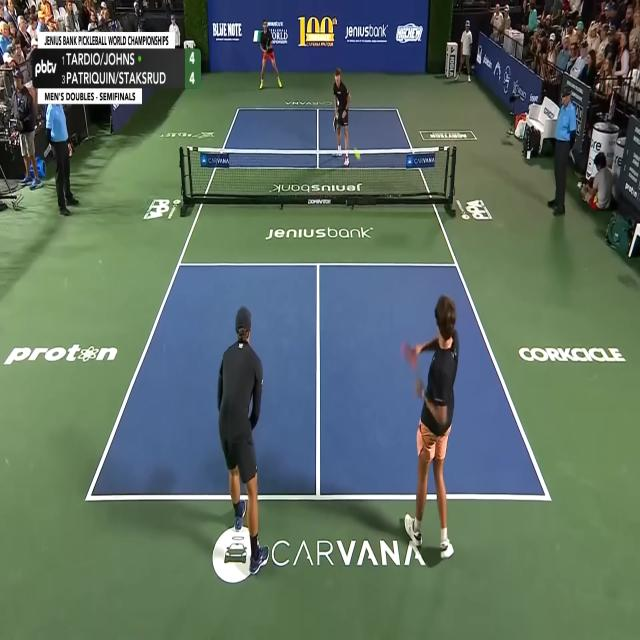ball: (355, 150, 360, 160)
